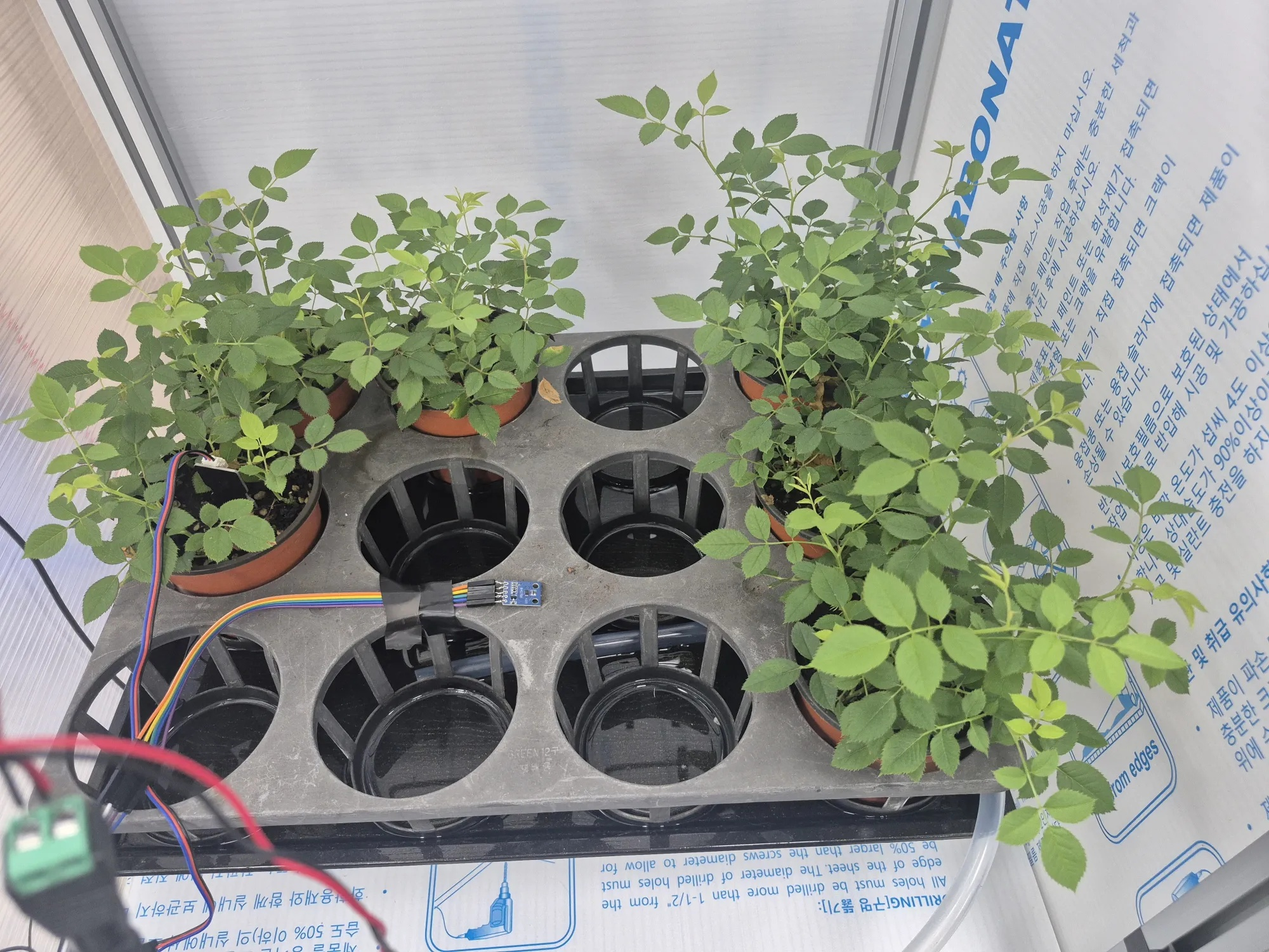Fresh Leaves: (863, 477, 1118, 710), (79, 305, 359, 494), (953, 487, 1188, 706), (806, 546, 1015, 783), (863, 345, 1025, 600), (70, 264, 355, 406), (5, 359, 171, 587), (863, 305, 1024, 508), (305, 228, 431, 394), (305, 305, 435, 408), (1077, 588, 1199, 697), (1001, 717, 1115, 823), (178, 273, 298, 364), (697, 136, 782, 262), (861, 530, 966, 632), (474, 234, 585, 326), (831, 684, 935, 782), (160, 499, 277, 581), (848, 420, 944, 519), (49, 474, 151, 565), (884, 281, 1001, 358), (983, 384, 1087, 468), (207, 198, 289, 294), (166, 497, 256, 584), (1022, 581, 1090, 676), (10, 374, 105, 441), (824, 253, 900, 336), (1095, 466, 1195, 527), (980, 480, 1049, 568), (91, 420, 161, 496), (86, 385, 173, 445), (819, 256, 888, 329), (354, 234, 438, 293), (202, 498, 277, 564), (1004, 718, 1065, 799), (884, 529, 967, 588), (849, 517, 929, 578), (95, 327, 173, 388), (453, 342, 518, 415), (806, 623, 891, 677), (126, 281, 206, 338), (722, 298, 784, 371), (81, 243, 159, 301), (811, 560, 871, 632), (971, 640, 1031, 711), (161, 503, 212, 586), (953, 689, 1018, 753), (320, 324, 384, 388), (941, 559, 1003, 625), (857, 232, 940, 281), (923, 405, 1001, 457), (779, 560, 843, 623), (430, 328, 505, 381), (235, 428, 294, 493), (605, 86, 669, 145), (839, 359, 910, 412), (906, 190, 961, 257), (693, 288, 740, 366), (845, 169, 905, 230), (999, 583, 1044, 663), (777, 227, 836, 288), (713, 247, 773, 306), (386, 325, 445, 383), (478, 234, 543, 286), (737, 258, 793, 318), (289, 243, 352, 296), (895, 631, 944, 699), (216, 350, 268, 411), (993, 750, 1060, 797), (720, 192, 765, 261), (740, 505, 783, 577), (1056, 761, 1115, 813), (426, 287, 491, 334), (731, 212, 799, 256), (241, 336, 302, 385), (875, 300, 924, 361), (1041, 826, 1086, 891), (391, 199, 447, 251), (945, 556, 1008, 602), (438, 243, 493, 295), (719, 138, 784, 182), (728, 219, 783, 271), (597, 88, 666, 129), (1032, 389, 1086, 441), (762, 115, 830, 156), (994, 310, 1062, 350), (195, 402, 238, 465), (45, 444, 117, 480), (953, 444, 1000, 499), (383, 360, 421, 428), (171, 357, 228, 402), (139, 427, 186, 481), (1152, 581, 1206, 628), (286, 307, 346, 349), (807, 669, 865, 712), (1008, 504, 1049, 564), (450, 216, 497, 268), (793, 271, 845, 318), (150, 444, 187, 510), (252, 406, 302, 454), (1056, 622, 1093, 686), (304, 419, 367, 455), (902, 214, 960, 253), (1048, 715, 1107, 753), (1011, 678, 1063, 721), (841, 175, 897, 214), (1004, 718, 1066, 753), (375, 280, 421, 327), (258, 360, 302, 409), (260, 402, 309, 446), (298, 414, 335, 472), (742, 658, 801, 694), (36, 359, 98, 393), (285, 309, 334, 352), (911, 363, 964, 402), (1046, 393, 1086, 444), (645, 213, 694, 254), (1014, 581, 1057, 626), (727, 413, 773, 455), (1042, 573, 1077, 628), (645, 215, 695, 253), (442, 190, 485, 234), (167, 227, 213, 268), (827, 226, 874, 266), (83, 575, 121, 624), (215, 369, 259, 411), (160, 538, 199, 585), (924, 223, 959, 275), (728, 443, 772, 484), (693, 529, 751, 560), (500, 195, 546, 234), (1020, 398, 1058, 445), (987, 392, 1029, 433), (364, 310, 407, 350), (779, 580, 819, 623), (235, 412, 279, 451), (996, 807, 1041, 845), (1045, 790, 1095, 824), (166, 503, 202, 550), (152, 282, 203, 315), (411, 264, 452, 305), (935, 500, 989, 531), (46, 360, 98, 392), (298, 357, 348, 390), (123, 533, 154, 585), (920, 253, 960, 293), (941, 655, 984, 692), (989, 709, 1033, 745), (640, 87, 668, 143), (1058, 360, 1098, 399), (1028, 630, 1066, 671), (23, 524, 67, 559), (1035, 380, 1084, 411), (751, 177, 792, 214), (140, 464, 169, 515), (1123, 465, 1161, 503), (257, 227, 292, 268), (654, 294, 705, 322), (1056, 645, 1090, 687), (180, 402, 209, 451), (270, 274, 313, 307), (814, 469, 854, 504), (751, 177, 793, 210), (64, 400, 107, 432), (464, 404, 500, 442), (1031, 509, 1065, 549), (266, 408, 304, 442), (762, 113, 797, 149), (997, 353, 1033, 388), (1032, 381, 1066, 418), (784, 506, 823, 538), (987, 156, 1019, 194), (196, 190, 235, 221), (274, 149, 315, 178), (207, 430, 240, 466), (597, 95, 646, 119), (830, 145, 881, 168), (322, 429, 370, 453), (752, 176, 793, 204), (1005, 447, 1049, 473), (791, 621, 821, 659), (1141, 539, 1183, 566), (902, 395, 935, 428), (521, 278, 555, 310), (793, 526, 827, 558), (1143, 539, 1183, 566), (488, 284, 525, 313), (394, 393, 423, 430), (164, 242, 197, 274), (376, 194, 411, 224), (803, 200, 845, 225), (691, 450, 733, 475), (253, 171, 287, 201), (740, 544, 770, 578), (844, 528, 874, 562), (528, 312, 573, 334), (253, 166, 287, 195), (1049, 570, 1079, 602), (305, 414, 334, 447), (884, 209, 918, 237), (785, 543, 813, 577), (446, 191, 485, 215), (744, 451, 770, 487), (745, 504, 770, 540), (553, 288, 584, 317), (993, 155, 1042, 173), (907, 342, 928, 383), (507, 197, 546, 219), (156, 206, 196, 227), (96, 329, 126, 357), (1011, 486, 1025, 546), (992, 766, 1027, 790), (496, 194, 518, 231), (729, 458, 757, 487), (911, 242, 951, 262), (1093, 525, 1133, 545), (674, 102, 701, 131), (646, 86, 669, 120), (352, 213, 378, 242), (284, 326, 313, 352), (967, 721, 989, 755), (812, 220, 845, 242), (539, 345, 572, 367), (1056, 548, 1093, 567), (1150, 618, 1176, 645), (527, 238, 551, 267), (728, 218, 758, 241), (675, 102, 699, 130), (88, 360, 112, 387), (698, 71, 717, 105), (196, 188, 234, 205), (1048, 421, 1073, 446), (185, 227, 211, 251), (374, 333, 408, 351), (549, 258, 578, 279), (72, 444, 93, 473), (933, 140, 965, 158), (876, 150, 900, 173), (199, 198, 221, 223), (1166, 669, 1188, 694), (463, 283, 489, 304), (888, 215, 915, 235), (933, 140, 964, 157), (249, 166, 271, 189), (844, 527, 867, 549), (535, 218, 563, 236), (1042, 700, 1066, 721), (1031, 724, 1066, 738), (761, 384, 784, 404), (702, 216, 718, 244), (495, 218, 517, 238), (940, 381, 963, 400), (803, 200, 827, 218), (945, 216, 964, 237), (87, 357, 106, 378), (727, 197, 749, 215), (987, 176, 1009, 194), (518, 200, 548, 213), (958, 240, 982, 256), (204, 258, 224, 277), (192, 473, 210, 494), (859, 171, 884, 186), (808, 200, 828, 218), (967, 160, 983, 182), (1078, 774, 1097, 792), (824, 164, 845, 180), (749, 400, 773, 414), (1029, 430, 1048, 447), (806, 155, 822, 175), (185, 533, 202, 551), (679, 214, 694, 234), (273, 280, 294, 293), (1027, 402, 1040, 423), (954, 182, 973, 195), (768, 147, 784, 162), (901, 181, 918, 195), (239, 251, 255, 265), (475, 218, 492, 231), (706, 106, 730, 115), (897, 194, 910, 209), (897, 254, 912, 267)
